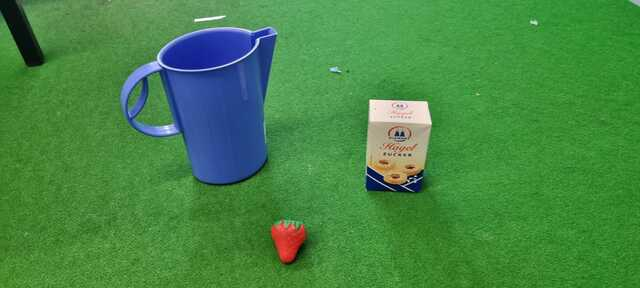004_sugar_box: (363, 95, 434, 195)
012_strawberry: (272, 218, 308, 265)
019_pitcher_base: (118, 26, 279, 185)
